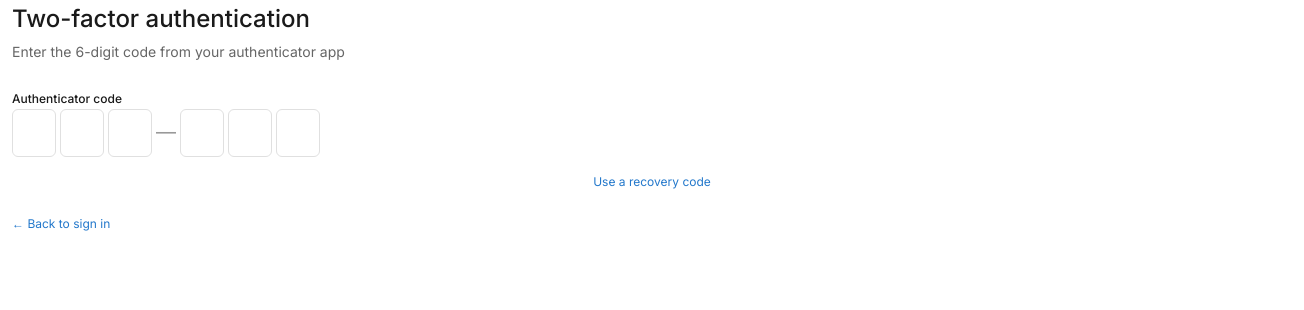
Test: MfaChallengeForm › shows a validation error when recovery code is submitted empty
This screenshot has width=1304, height=310.
Click the button "Use a recovery code": (652, 182) [12, 173, 1292, 191]
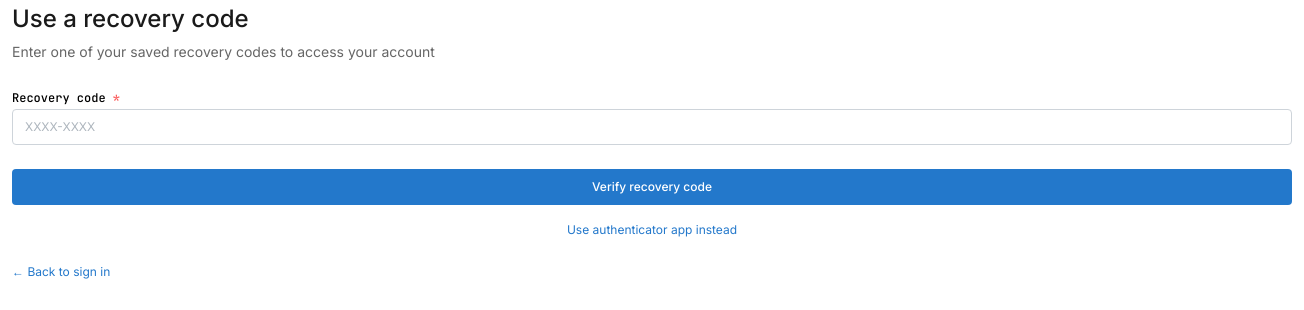
Result: the button "Verify recovery code" is shown
Click the button "Verify recovery code": (652, 187) [12, 169, 1292, 205]
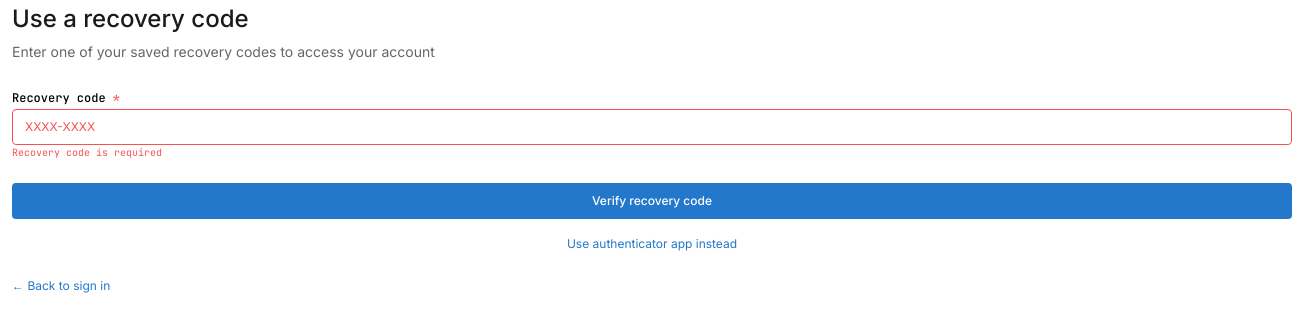
Result: the text "Recovery code is required" is shown at [12, 146, 162, 159]
